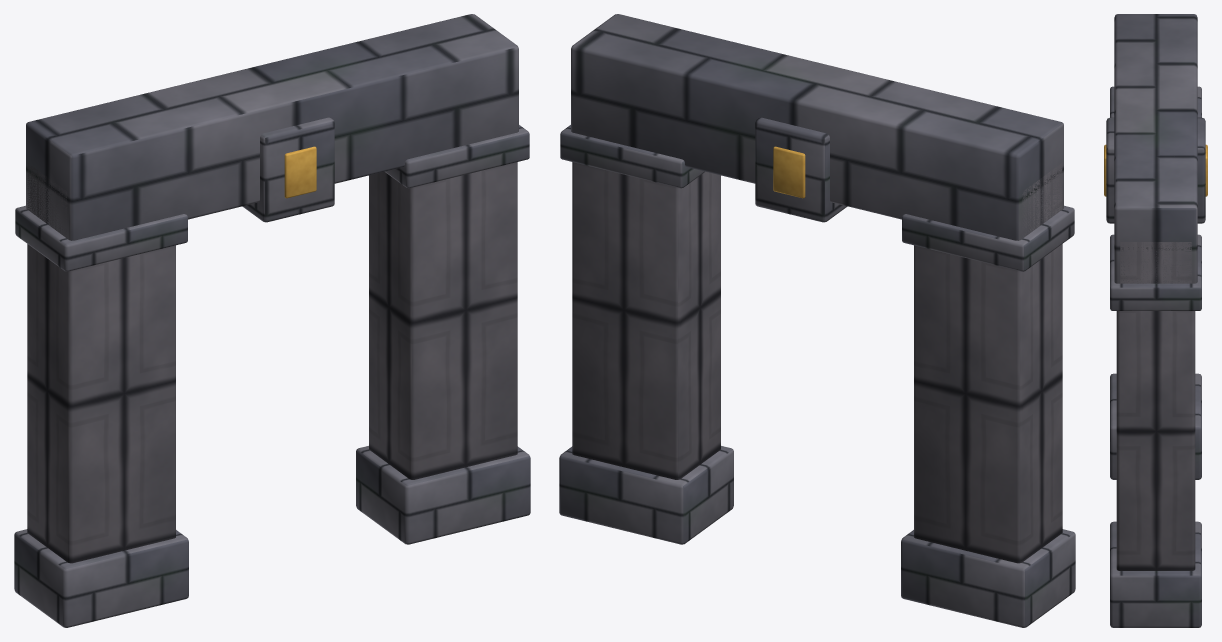
Rendered from door_arch.glb.
3 views of the same model, side by side, from view 1: azimuth 30°, elevation 25°; view 2: azimuth 150°, elevation 25°; view 3: azimuth 270°, elevation 25° (orthographic). The views are drawn at different scales.
Visible parts, largest first — view 1: Lintel, ArchJamb, ArchJamb.001, JambPlinth.001, JambPlinth, Keystone, JambCap, JambCap.001, BronzeRune; view 2: Lintel, ArchJamb, ArchJamb.001, JambPlinth.001, JambPlinth, Keystone, JambCap, JambCap.001, BronzeRune; view 3: ArchJamb.001, Lintel, JambPlinth.001, JambCap.001, Keystone, JambPlinth, JambCap, BronzeRune.
Boxes of the visible parts, bbox=[...] form: Lintel: bbox=[26, 14, 518, 240]; ArchJamb: bbox=[27, 163, 175, 563]; ArchJamb.001: bbox=[369, 162, 517, 479]; JambPlinth.001: bbox=[356, 446, 530, 544]; JambPlinth: bbox=[14, 529, 188, 627]; Keystone: bbox=[242, 117, 334, 222]; JambCap: bbox=[15, 205, 187, 271]; JambCap.001: bbox=[385, 125, 529, 188]; BronzeRune: bbox=[284, 146, 316, 198]; Lintel: bbox=[571, 14, 1063, 240]; ArchJamb: bbox=[914, 163, 1062, 563]; ArchJamb.001: bbox=[572, 162, 720, 479]; JambPlinth.001: bbox=[559, 446, 733, 544]; JambPlinth: bbox=[901, 529, 1075, 627]; Keystone: bbox=[755, 117, 847, 222]; JambCap: bbox=[902, 205, 1074, 271]; JambCap.001: bbox=[560, 125, 704, 188]; BronzeRune: bbox=[773, 146, 805, 198]; ArchJamb.001: bbox=[1116, 242, 1195, 570]; Lintel: bbox=[1114, 14, 1197, 283]; JambPlinth.001: bbox=[1110, 521, 1201, 627]; JambCap.001: bbox=[1110, 234, 1201, 310]; Keystone: bbox=[1106, 117, 1205, 223]; JambPlinth: bbox=[1110, 373, 1201, 479]; JambCap: bbox=[1110, 86, 1201, 117]; BronzeRune: bbox=[1104, 144, 1207, 196].
Bounding box in the file's own units: 4.16 × 4 × 0.9.
Materials: 4 (4 with a texture image).
